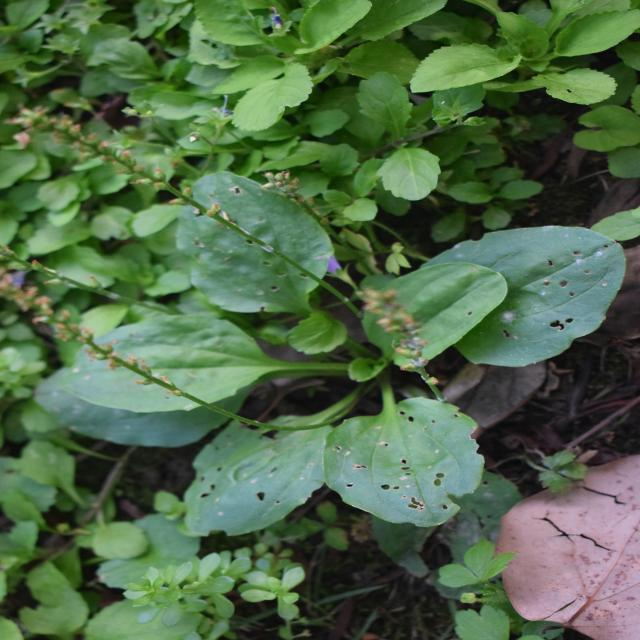plantain: (109, 56, 460, 606)
